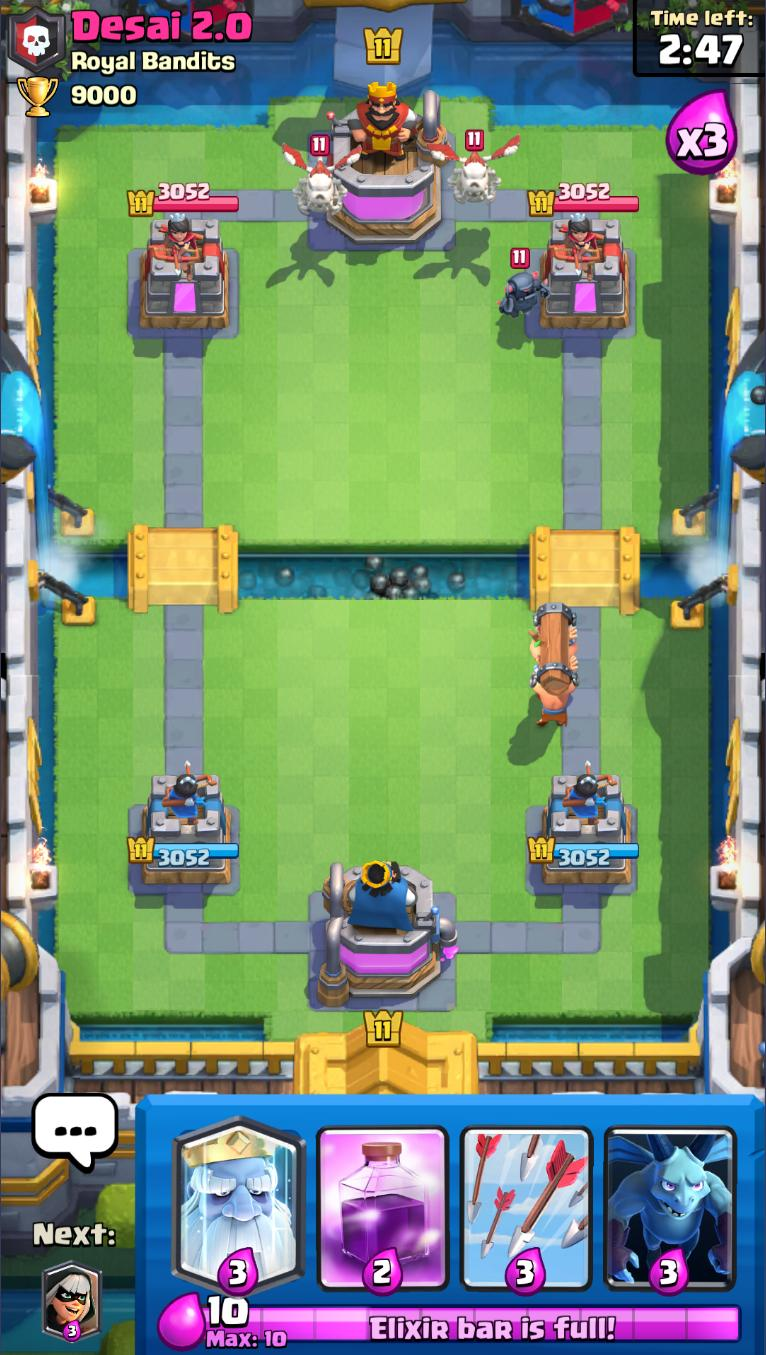ArrowDeck: (454, 1097, 600, 1294)
BanditNext: (43, 1261, 103, 1342)
Elixir: (202, 1295, 745, 1352)
EnemyTower: (137, 214, 231, 333), (538, 214, 632, 331)
KingTower: (309, 80, 454, 248)
MiniPekka: (495, 248, 555, 319)
MinionsDeck: (600, 1097, 744, 1294)
MyBattleRam: (525, 604, 582, 726)
MyKingTower: (318, 855, 460, 1009)
MyPrincessTower: (526, 768, 642, 889), (126, 772, 242, 887)
MyPrincessTowerHP: (127, 833, 241, 869), (526, 835, 641, 867)
PrincessTower: (549, 214, 604, 275), (152, 214, 202, 273)
RageDeck: (311, 1097, 454, 1295)
RoyaleGhostDeck: (168, 1095, 310, 1294)
SkeletonDragon: (428, 128, 523, 205), (276, 138, 362, 222)
TowerPrincessHP: (127, 182, 241, 217), (527, 183, 640, 218)
